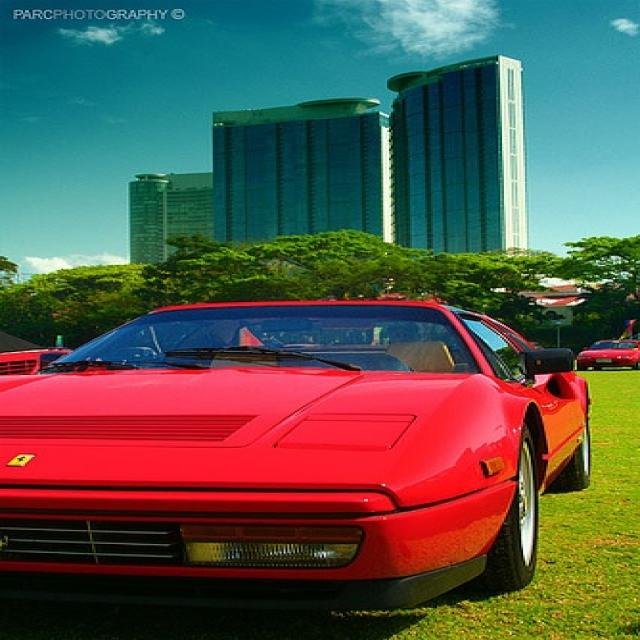car: (2, 297, 600, 612), (573, 330, 638, 371)
